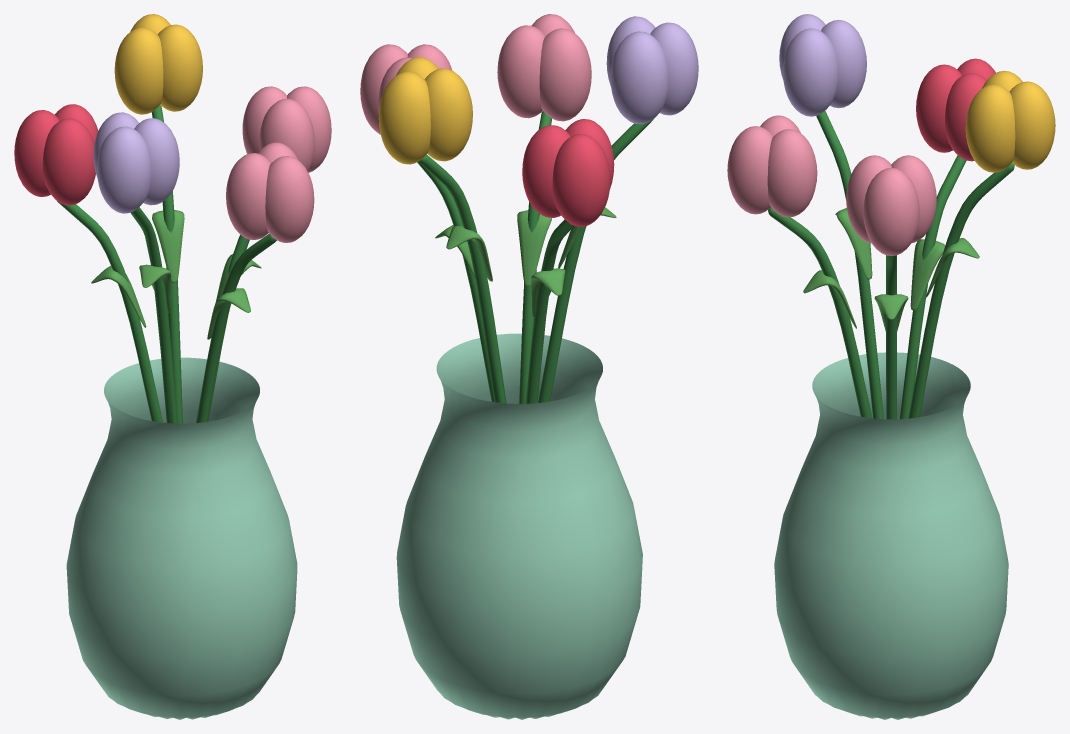
File: deco_florero.glb
The picture shows the model from 3 angles, left to right: view 1: azimuth 30°, elevation 25°; view 2: azimuth 150°, elevation 25°; view 3: azimuth 270°, elevation 25°; orthographic projection. The views are drawn at different scales.
Parts seen in each view (by area): view 1: florero, pétalo tulipán 30, pétalo tulipán 21, pétalo tulipán 11, pétalo tulipán 40, pétalo tulipán 42, pétalo tulipán 12, tallo 2, pétalo tulipán 02, pétalo tulipán 20, pétalo tulipán 31, tallo 3 (+10 smaller); view 2: florero, pétalo tulipán 20, pétalo tulipán 32, pétalo tulipán 42, pétalo tulipán 10, pétalo tulipán 11, pétalo tulipán 41, tallo 1, pétalo tulipán 30, pétalo tulipán 22, tallo 3, tallo 2 (+9 smaller); view 3: florero, pétalo tulipán 00, pétalo tulipán 31, pétalo tulipán 12, pétalo tulipán 41, pétalo tulipán 40, pétalo tulipán 10, tallo 1, tallo 3, tallo 4, pétalo tulipán 32, pétalo tulipán 21 (+11 smaller).
Part boxes in pixels (x1,y1,x2,y2): florero: (66,357,297,719); pétalo tulipán 30: (97,126,151,213); pétalo tulipán 21: (42,118,95,205); pétalo tulipán 11: (114,27,163,114); pétalo tulipán 40: (265,156,314,242); pétalo tulipán 42: (226,153,270,239); pétalo tulipán 12: (157,24,202,111); tallo 2: (57,201,162,422); pétalo tulipán 02: (259,98,314,171); pétalo tulipán 20: (14,110,59,196); pétalo tulipán 31: (134,118,179,205); tallo 3: (130,207,177,423); florero: (396,333,642,719); pétalo tulipán 20: (552,134,610,226); pétalo tulipán 32: (610,31,668,124); pétalo tulipán 42: (539,28,591,121); pétalo tulipán 10: (378,71,430,164); pétalo tulipán 11: (425,68,472,161); pétalo tulipán 41: (497,25,545,118); tallo 1: (419,154,506,403); pétalo tulipán 30: (650,22,698,115); pétalo tulipán 22: (522,125,570,217); tallo 3: (538,119,653,402); tallo 2: (525,219,573,403); florero: (774,352,1008,719); pétalo tulipán 00: (863,167,919,255); pétalo tulipán 31: (783,28,837,116); pétalo tulipán 12: (965,84,1015,172); pétalo tulipán 41: (767,129,817,217); pétalo tulipán 40: (727,126,773,214); pétalo tulipán 10: (1009,81,1055,169); tallo 1: (908,163,1014,418); tallo 3: (816,111,883,419); tallo 4: (768,207,872,418); pétalo tulipán 32: (821,20,866,108); pétalo tulipán 21: (916,64,961,152).
Size of the model in its own units: 0.2558 by 0.5683 by 0.2666.
